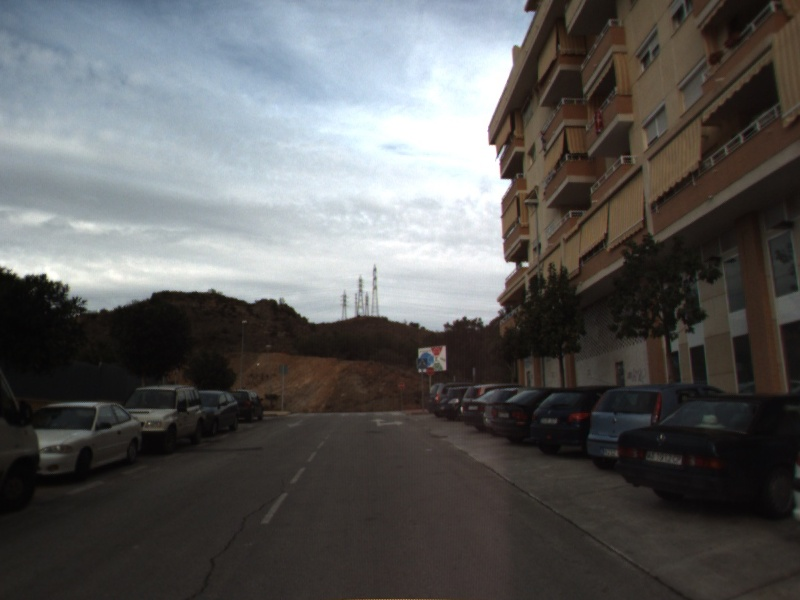STRAIGHT_RIGHT: (368, 416, 405, 429)
